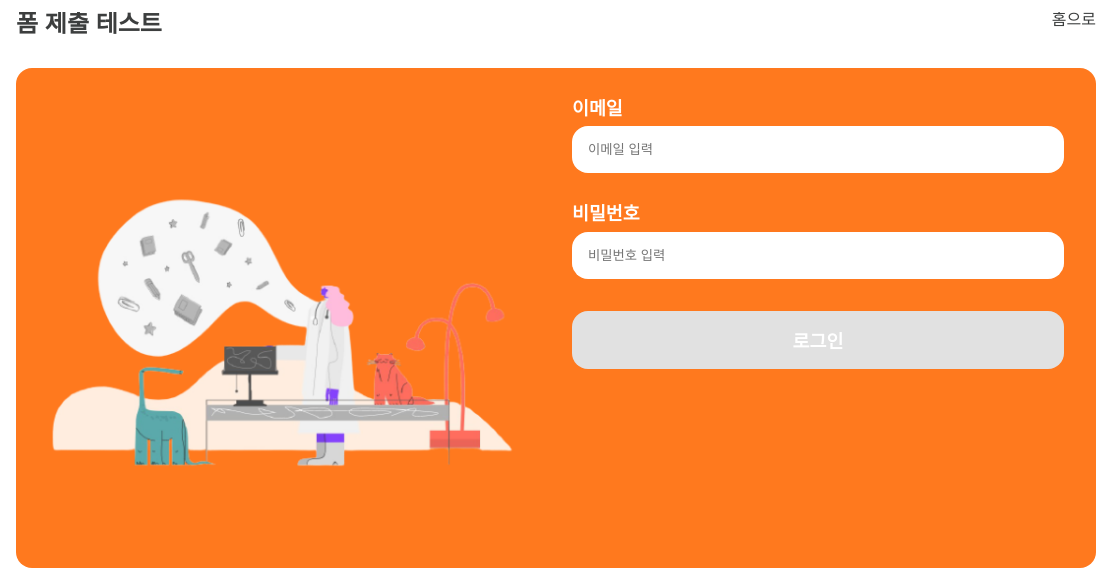
it: <SubmitForm /> › form: enables button when both email and password are entered
Expected: the button "로그인" is disabled, [572,311,1064,369]
Type "user@test.com" into the field labelled "이메일" at (818, 150), box [572,126,1064,173]
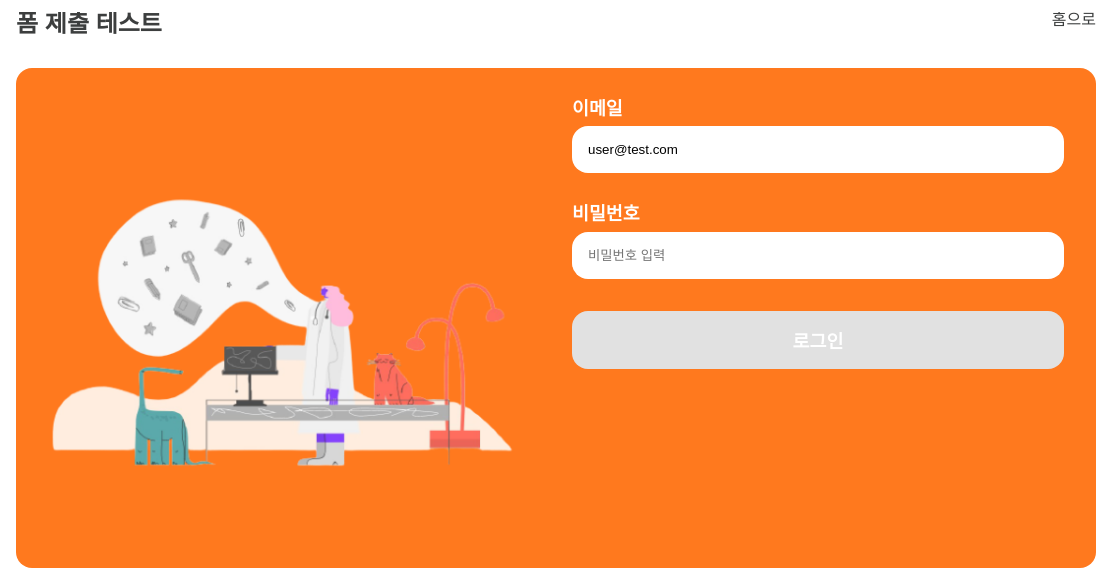
Type "test1234" into the password field labelled "비밀번호" at (818, 255), box [572,232,1064,279]
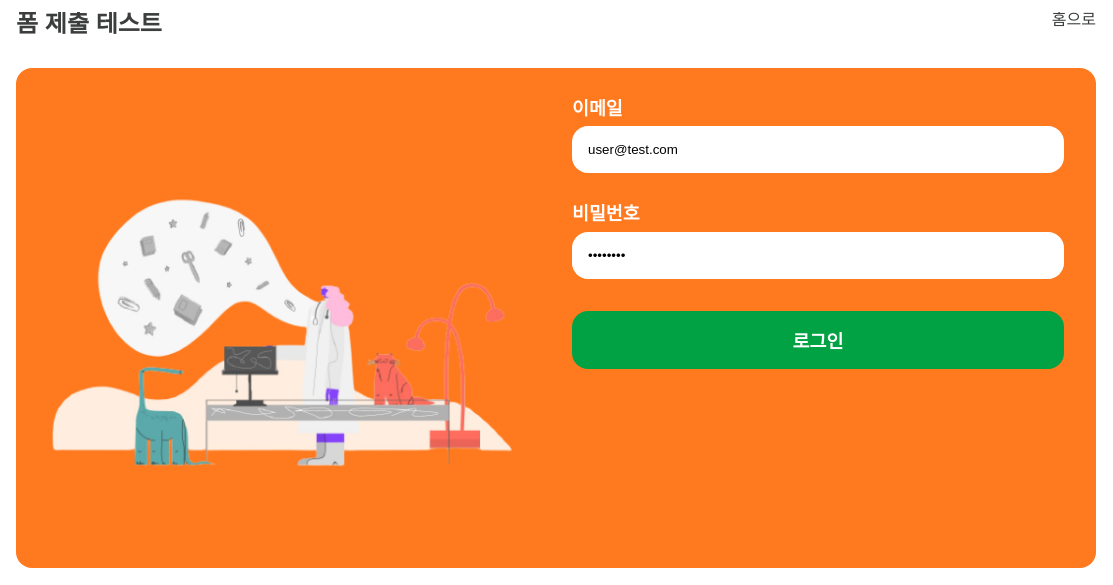
Now the button "로그인" is enabled, box [572,311,1064,369]
